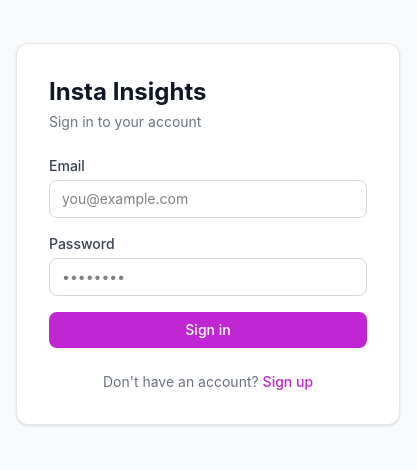
LoginPage › shows validation error when fields are empty
Click the button "Sign in": click(208, 330) [49,312,367,348]
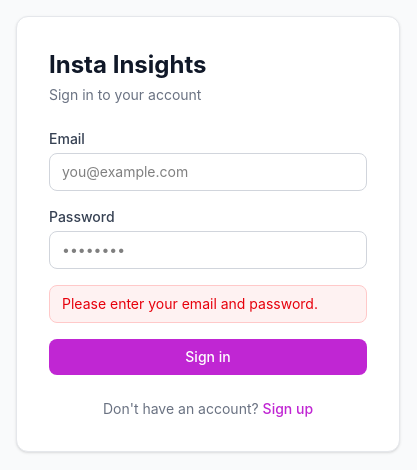
Result: the message shows "Please enter your email and password" at [62,295,318,312]
